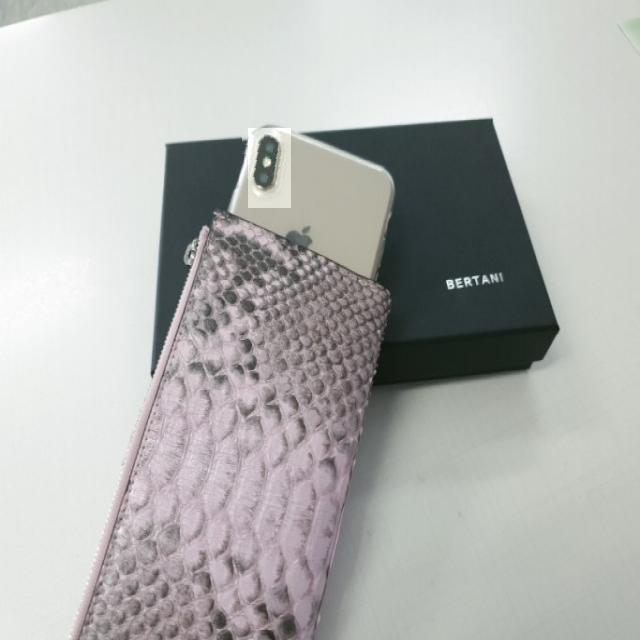Mobile: (230, 119, 399, 285)
